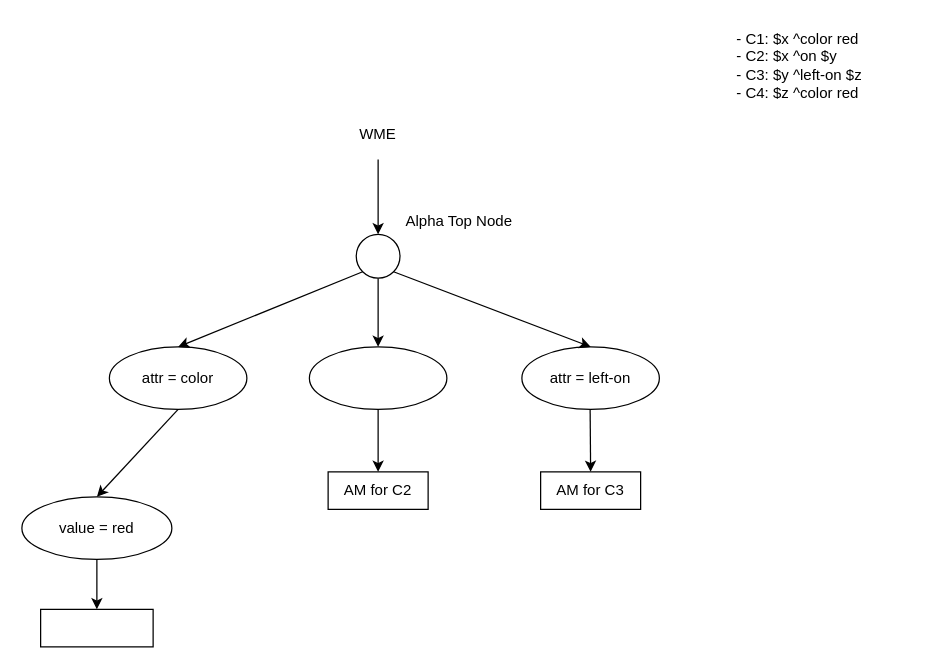
This 931x669 diagram has some shape labels left out. The centre of each missing label's shape, as x and y in pixels:
"AM for C1, C4" goes at pixel 96 627.
"attr = on" goes at pixel 377 377.
